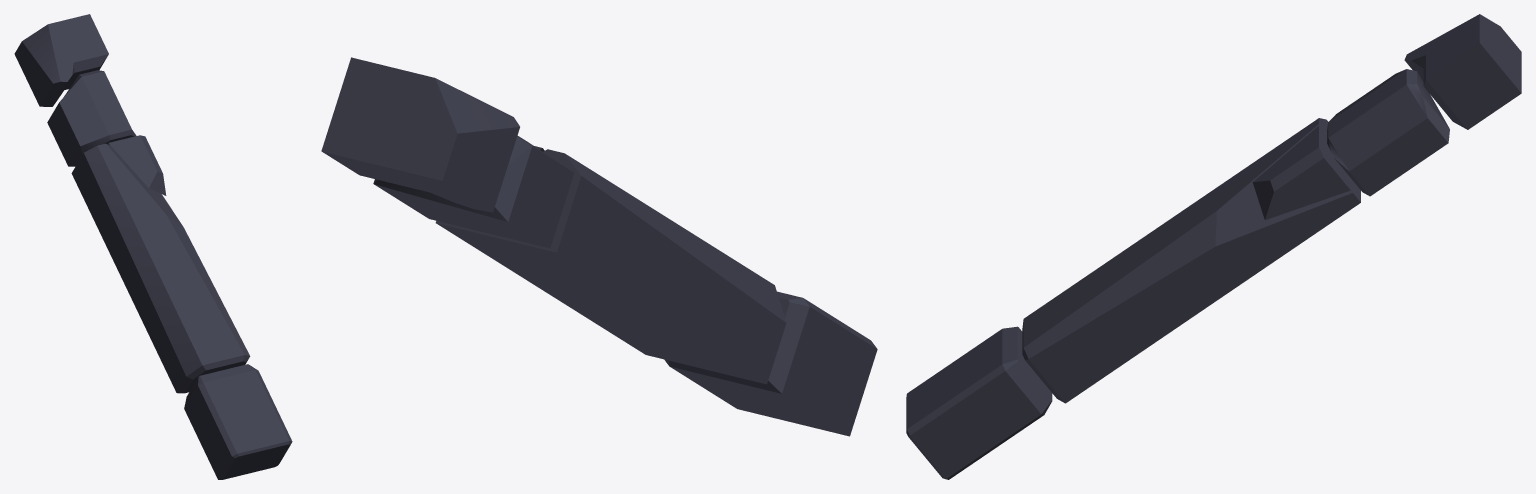
File: Edge_Stairs_01.fbx
3 views of the same model, side by side, from view 1: azimuth 30°, elevation 25°; view 2: azimuth 150°, elevation 25°; view 3: azimuth 270°, elevation 25° (orthographic). The views are drawn at different scales.
Visible parts, largest first — view 1: 1-Stairs_Edge_01; view 2: 1-Stairs_Edge_01; view 3: 1-Stairs_Edge_01.
Boxes of the visible parts, x1=… form: 1-Stairs_Edge_01: x1=14, y1=14, x2=292, y2=479; 1-Stairs_Edge_01: x1=321, y1=57, x2=877, y2=436; 1-Stairs_Edge_01: x1=906, y1=14, x2=1521, y2=479.
Bounding box in the file's own units: 0.6843 × 4.28 × 3.37.
